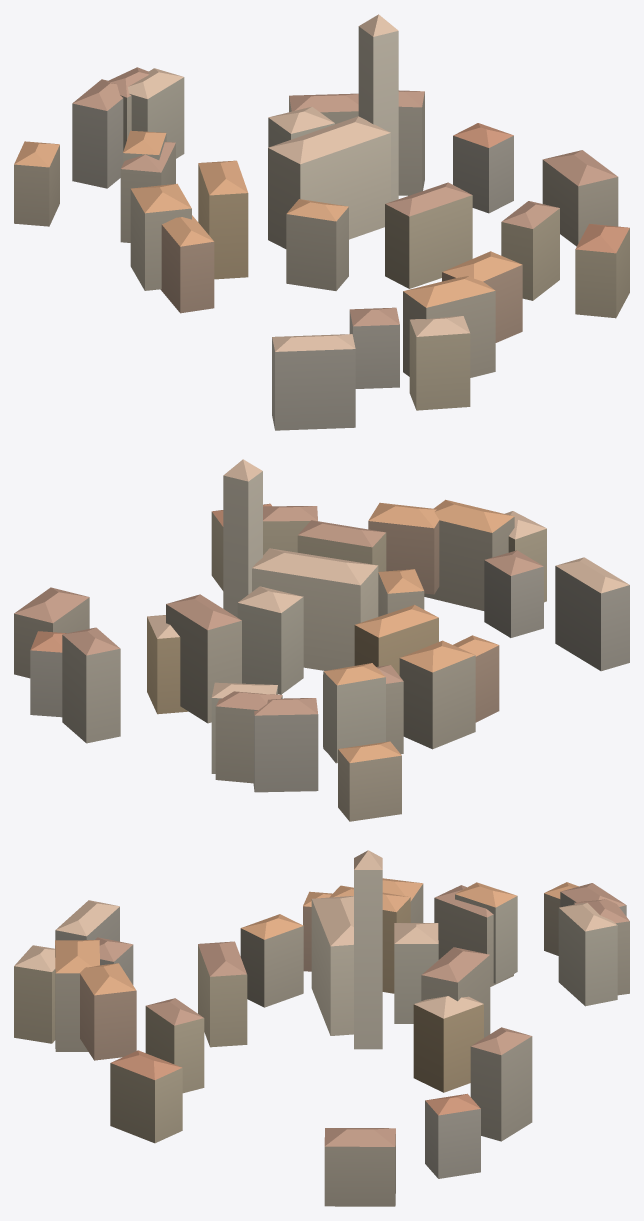
Rendered from SM_BM_BVV_Village_2.glb.
3 renders of one model, top to bottom at view 1: azimuth 30°, elevation 25°; view 2: azimuth 150°, elevation 25°; view 3: azimuth 270°, elevation 25°, orthographic. The views are drawn at different scales.
Visible parts, largest first — view 1: SM_BM_BVV_Village_2; view 2: SM_BM_BVV_Village_2; view 3: SM_BM_BVV_Village_2.
Boxes of the visible parts, x1,y1,x2,y2 form: SM_BM_BVV_Village_2: [14, 14, 629, 430]; SM_BM_BVV_Village_2: [14, 459, 629, 821]; SM_BM_BVV_Village_2: [14, 850, 629, 1206].
Bounding box in the file's own units: 142 × 73.41 × 162.
